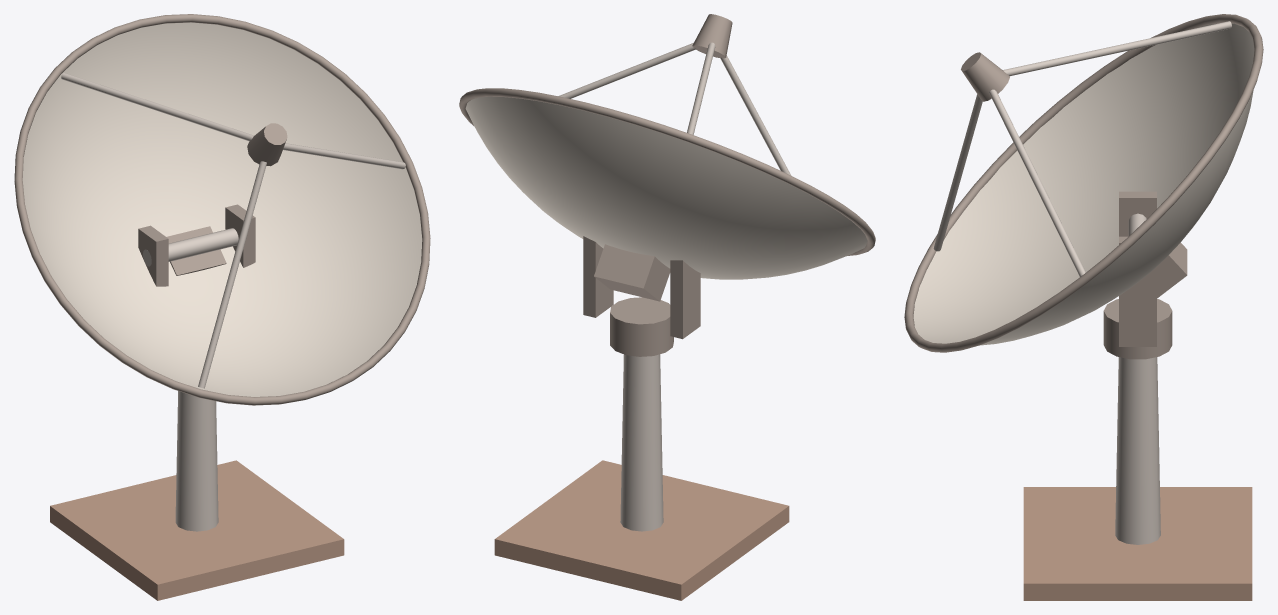
File: P02_satellite_dish_small.glb
The picture shows the model from 3 angles, left to right: view 1: azimuth 30°, elevation 25°; view 2: azimuth 150°, elevation 25°; view 3: azimuth 270°, elevation 25°; orthographic projection. The views are drawn at different scales.
Parts seen in each view (by area): view 1: dish, base_plate, swivel, post; view 2: dish, base_plate, swivel, post; view 3: dish, base_plate, swivel, post.
Boxes of the visible parts, left/top/right/bottom form: dish: left=22, top=22, right=422, bottom=396; base_plate: left=50, top=460, right=344, bottom=600; swivel: left=14, top=14, right=430, bottom=405; post: left=61, top=73, right=405, bottom=531; dish: left=465, top=96, right=867, bottom=279; base_plate: left=494, top=460, right=789, bottom=600; swivel: left=459, top=14, right=875, bottom=356; post: left=558, top=42, right=791, bottom=531; dish: left=913, top=23, right=1254, bottom=345; base_plate: left=1023, top=487, right=1252, bottom=600; swivel: left=904, top=14, right=1263, bottom=359; post: left=933, top=21, right=1231, bottom=544.
Bounding box in the file's own units: 1.22 × 1.47 × 0.9417.
